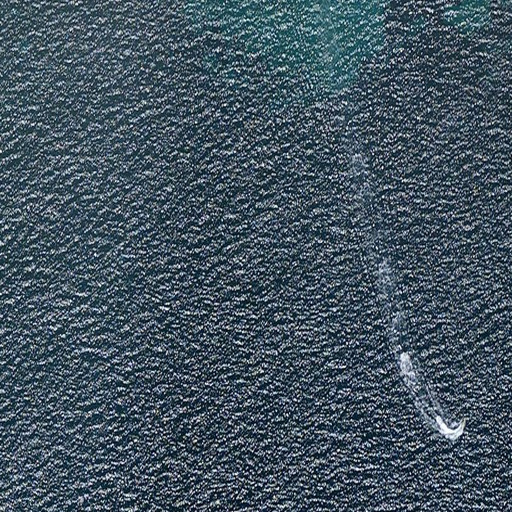ship: (458, 415, 467, 430)
